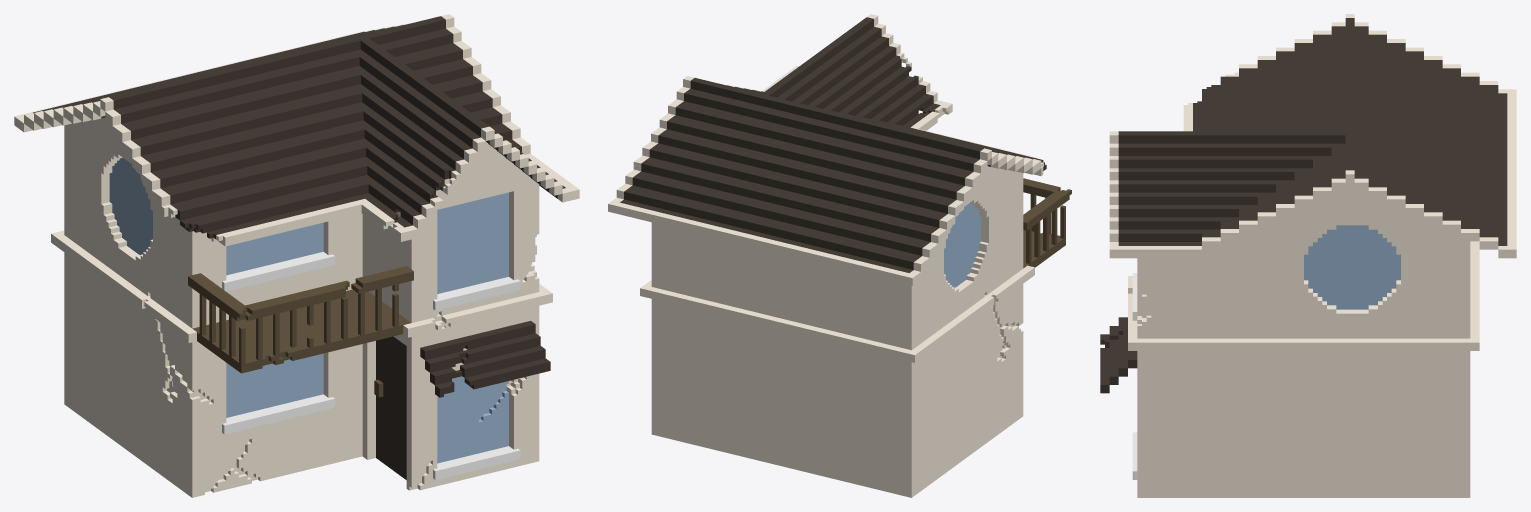
The model's file is Background_A_house_02.FBX.
3 renders of one model, left to right at view 1: azimuth 30°, elevation 25°; view 2: azimuth 150°, elevation 25°; view 3: azimuth 270°, elevation 25°, orthographic. The views are drawn at different scales.
Parts seen in each view (by area): view 1: Load_A-31; view 2: Load_A-31; view 3: Load_A-31.
Part boxes in pixels (x1,y1,x2,y2): Load_A-31: (14,14,579,497); Load_A-31: (608,14,1071,497); Load_A-31: (1100,14,1516,497).
Bounding box in the file's own units: 8.2 × 8 × 9.
1 material, 1 textured.
